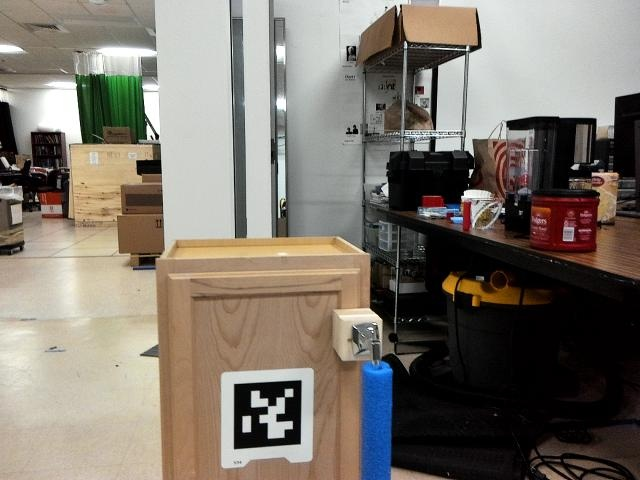noodle_handle: (350, 348, 406, 480)
